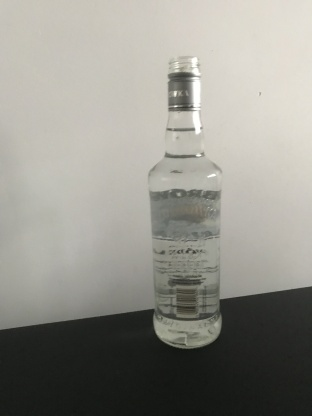nakretka: (165, 53, 202, 112)
